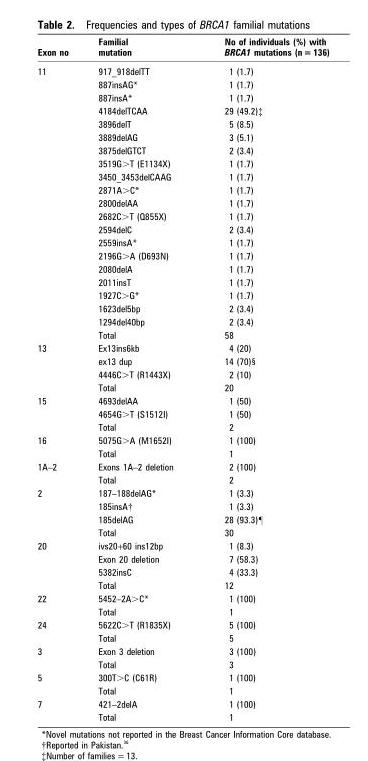table: (36, 36, 328, 722)
table column: (198, 36, 328, 722), (82, 36, 198, 722), (36, 36, 82, 722)
table column header: (36, 36, 328, 61)
table row: (36, 36, 328, 61), (36, 61, 328, 77), (36, 77, 328, 91), (36, 143, 328, 157), (36, 222, 328, 236), (36, 301, 328, 315), (36, 367, 328, 381), (36, 446, 328, 460), (36, 499, 328, 513), (36, 538, 328, 552), (36, 591, 328, 605), (36, 657, 328, 671), (36, 91, 328, 104), (36, 104, 328, 117), (36, 117, 328, 130), (36, 130, 328, 143), (36, 157, 328, 170), (36, 170, 328, 183), (36, 183, 328, 196), (36, 196, 328, 209), (36, 209, 328, 222), (36, 236, 328, 249), (36, 249, 328, 262), (36, 262, 328, 275), (36, 275, 328, 288), (36, 288, 328, 301), (36, 315, 328, 328), (36, 328, 328, 341), (36, 341, 328, 354), (36, 354, 328, 367), (36, 381, 328, 394), (36, 394, 328, 407), (36, 407, 328, 420), (36, 420, 328, 433), (36, 433, 328, 446), (36, 460, 328, 473), (36, 473, 328, 486), (36, 486, 328, 499), (36, 513, 328, 526), (36, 552, 328, 565), (36, 565, 328, 578), (36, 578, 328, 591), (36, 605, 328, 618), (36, 618, 328, 631), (36, 631, 328, 644), (36, 644, 328, 657), (36, 671, 328, 684), (36, 684, 328, 697), (36, 697, 328, 710), (36, 526, 328, 538), (36, 710, 328, 722)
table spanning cell: (36, 61, 82, 341), (36, 341, 82, 394), (36, 538, 82, 591), (36, 486, 82, 538), (36, 394, 82, 433), (36, 433, 82, 460), (36, 591, 82, 618), (36, 644, 82, 671), (36, 460, 82, 486), (36, 618, 82, 644), (36, 671, 82, 697), (36, 697, 82, 722)
